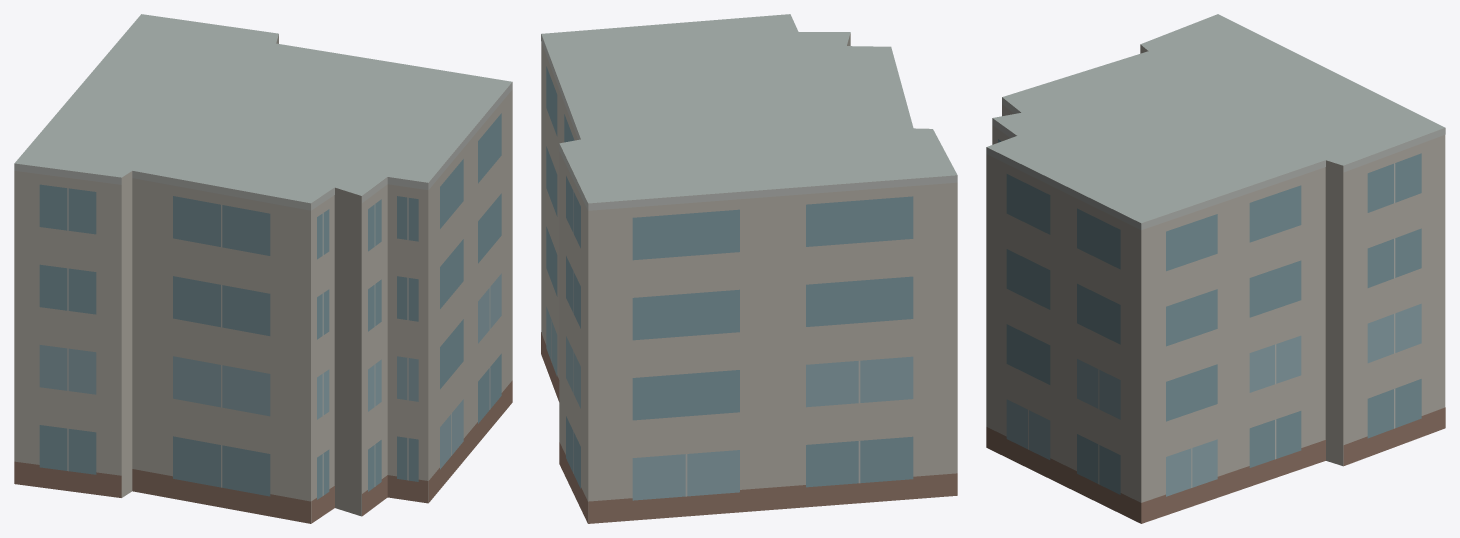
Rendered from survey-upis-32779647.glb.
3 views of the same model, side by side, from view 1: azimuth 30°, elevation 25°; view 2: azimuth 150°, elevation 25°; view 3: azimuth 270°, elevation 25° (orthographic). The views are drawn at different scales.
Parts seen in each view (by area): view 1: survey-upis-32779647.tmp; view 2: survey-upis-32779647.tmp; view 3: survey-upis-32779647.tmp.
Boxes of the visible parts, x1,y1,x2,y2 form: survey-upis-32779647.tmp: [14, 14, 512, 523]; survey-upis-32779647.tmp: [541, 14, 957, 523]; survey-upis-32779647.tmp: [986, 14, 1445, 523].
Size of the model in its own units: 15.84 by 10.6 by 14.68.
